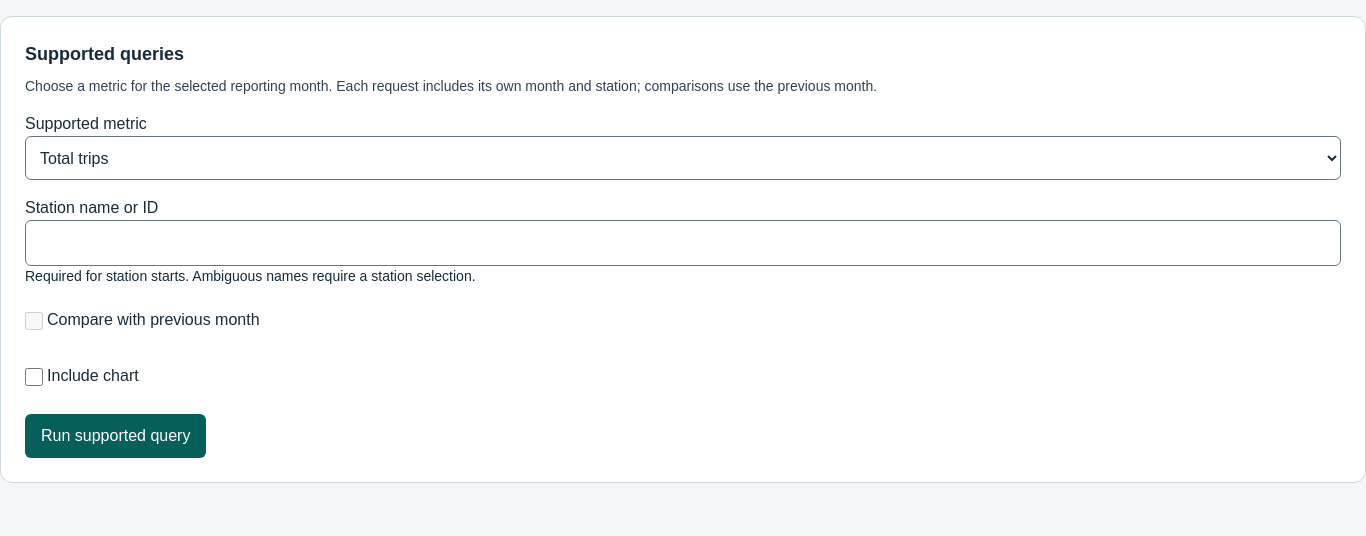
handles invalid without fabricated report
Click the button "Run supported query": [116, 436] box [25,414,206,458]
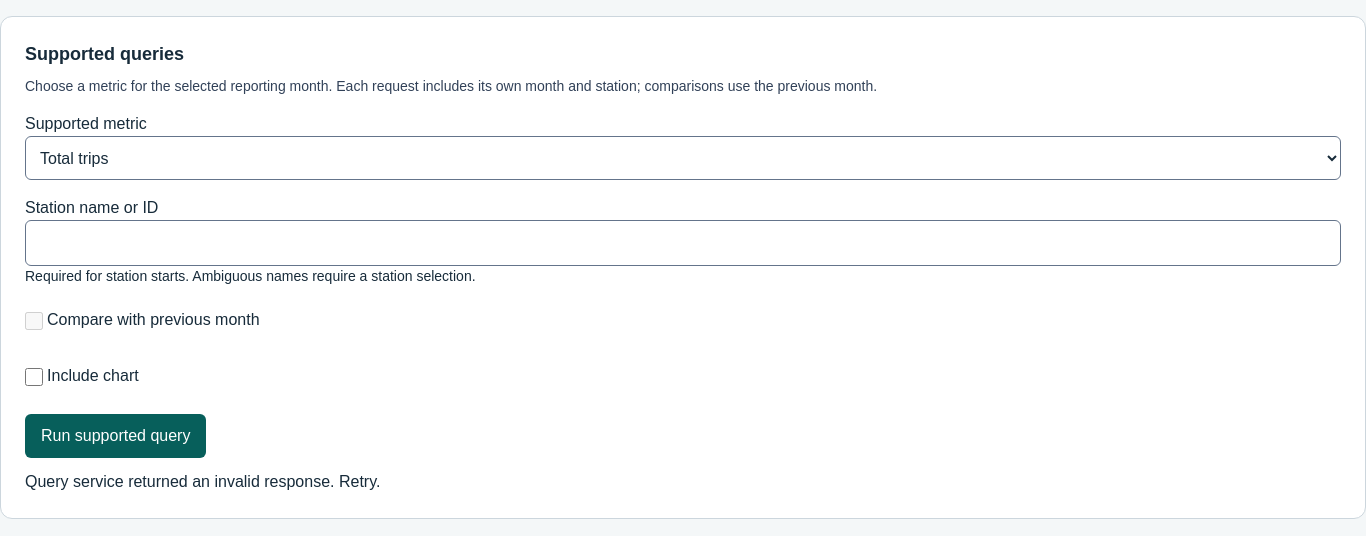
Result: the message shows "invalid response" at [25,473,380,490]
